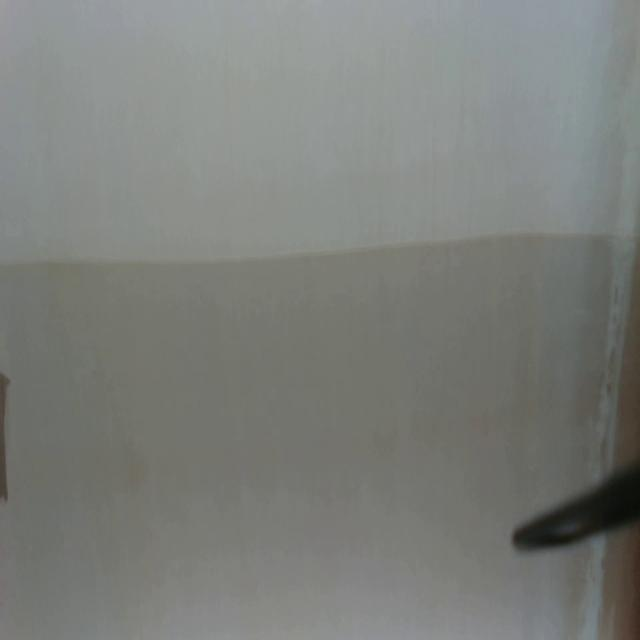color bleeding: (586, 162, 640, 464), (570, 541, 640, 640)
hole: (0, 369, 12, 503)
